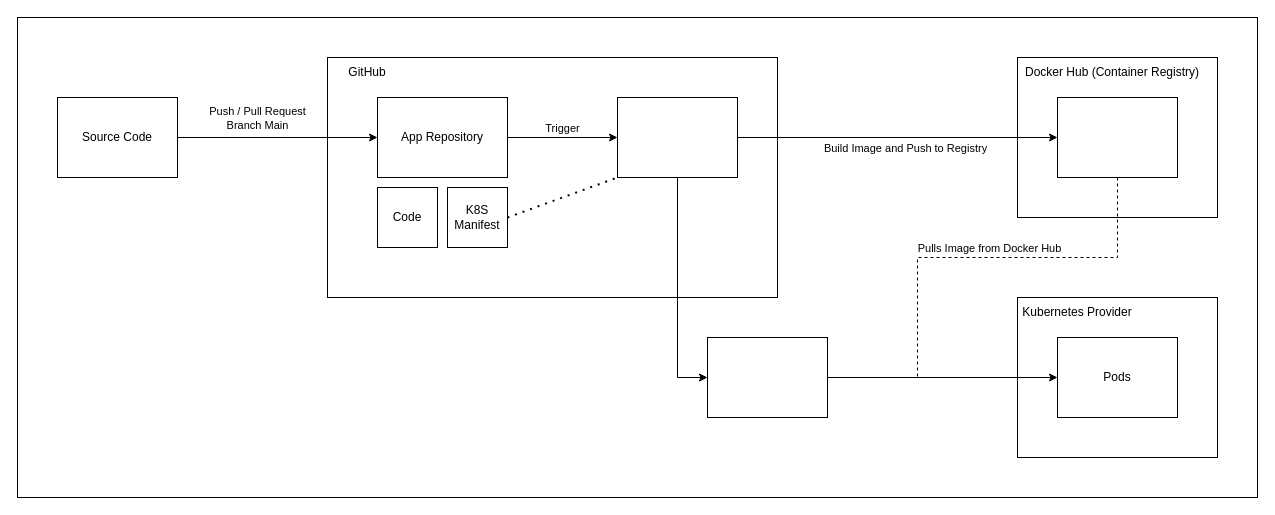
This 1275x515 diagram has some shape labels left out. Each missing label, with the centre of its shape:
App Image: [1117,137]
GitHub Action: [677,137]
Terraform: [767,377]
